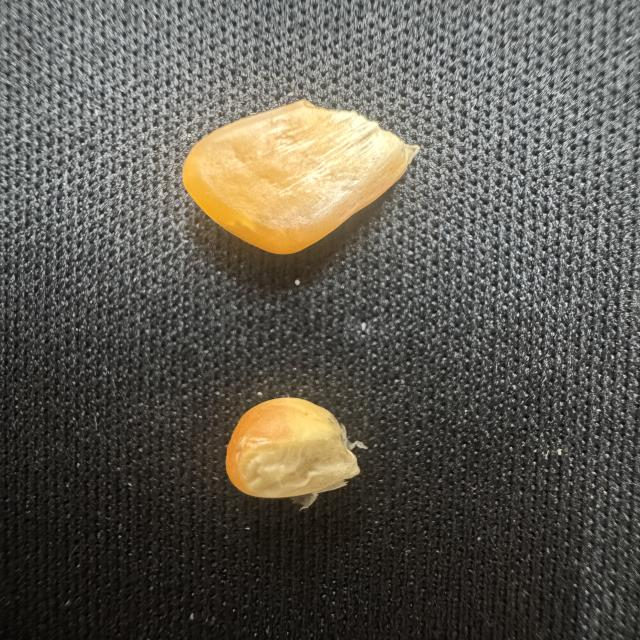Bad-Seed: (172, 91, 431, 263), (212, 394, 392, 522)
